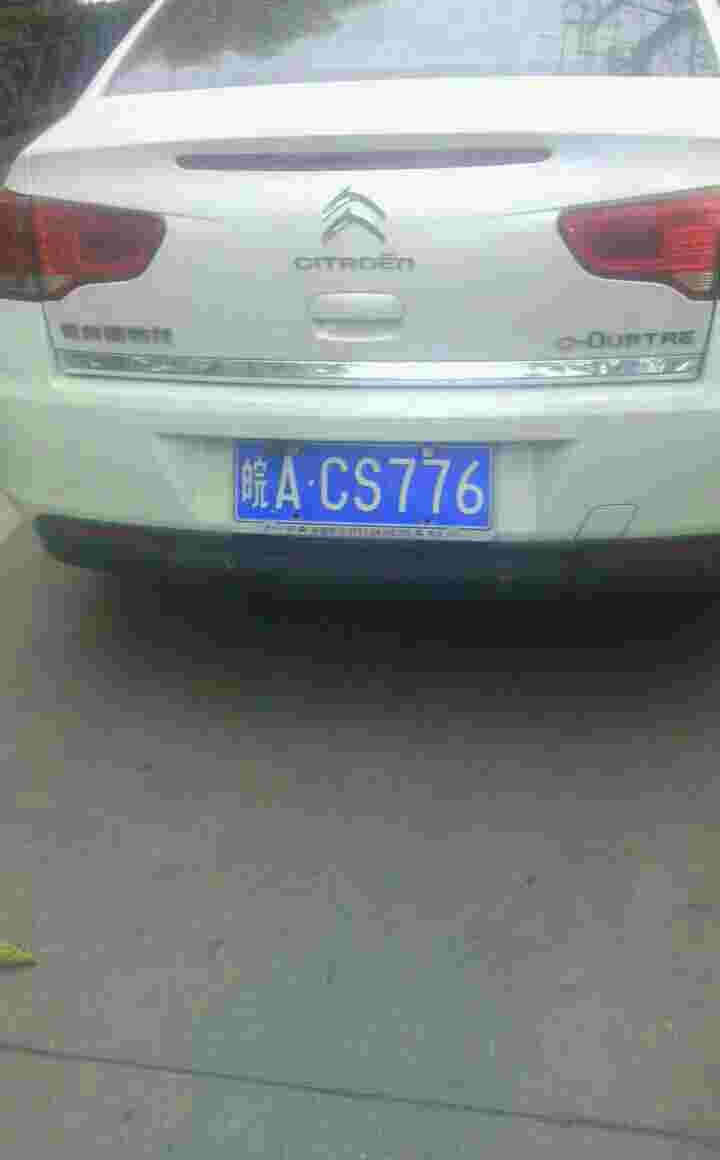license_plate: (243, 446, 502, 535)
